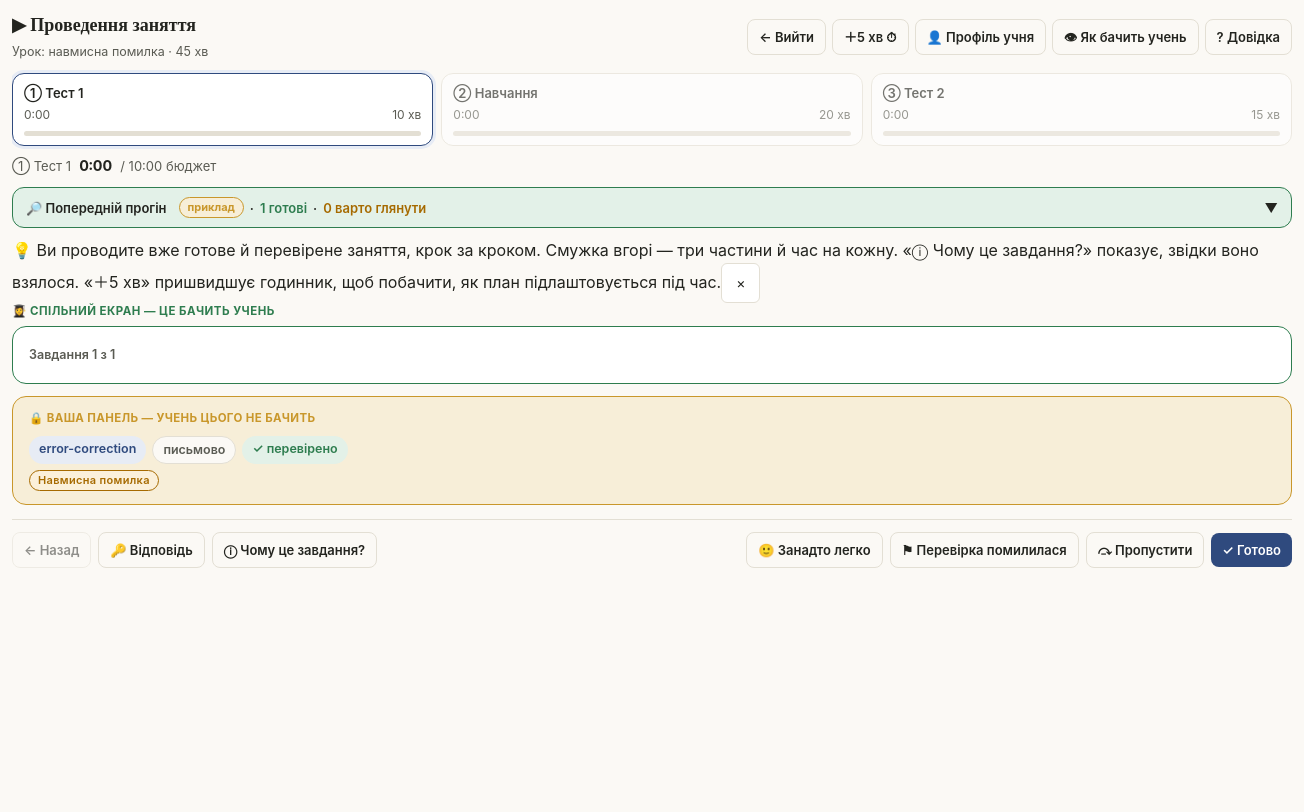
Conductor deliberate-error badge (#208) › omits the badge from student preview DOM entirely
Step 1. Click the button with test id "enter-student-preview-btn" → (1125, 37), box [1052,19,1199,55]
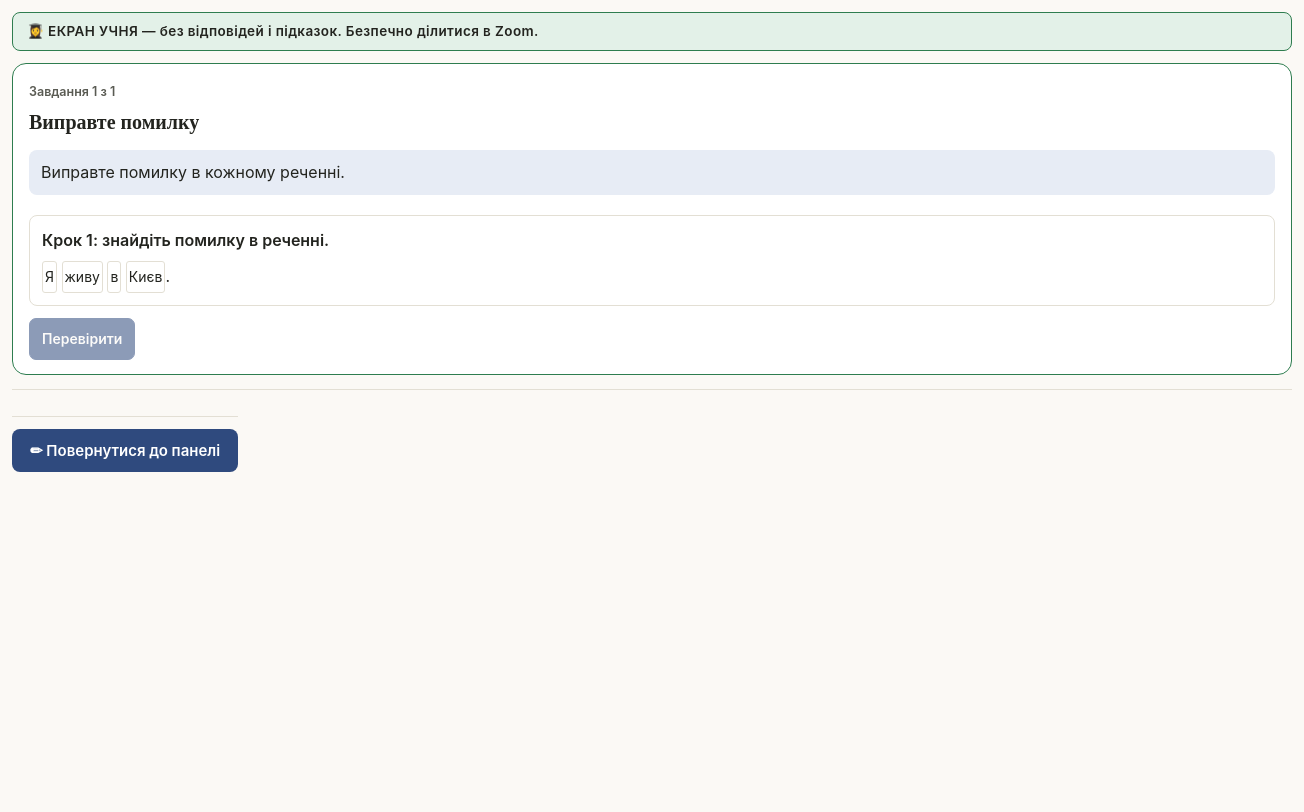
Expected: the element with test id "conductor-student-preview" is shown, [12,12,1292,472]
Expected: the text with test id "deliberate-error-badge" is gone
Expected: the text "навмисна помилка" is gone
